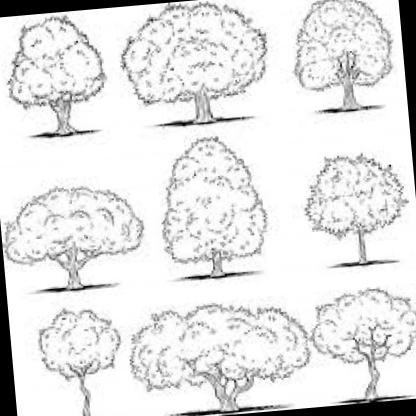crown_cloud: (118, 1, 271, 106), (1, 183, 146, 267), (3, 16, 108, 107), (301, 152, 409, 240), (308, 286, 416, 364), (38, 306, 122, 378)
crown_dizzy: (127, 298, 312, 394)
crown_mushroom: (152, 133, 270, 265), (286, 0, 395, 93)
root_none: (183, 111, 228, 134), (46, 122, 89, 146), (57, 276, 98, 298), (331, 97, 370, 119), (200, 267, 238, 286), (350, 254, 380, 272)
trunk_bark: (216, 396, 243, 410), (54, 112, 74, 130), (194, 100, 214, 118), (341, 86, 359, 104), (358, 238, 369, 258), (68, 270, 82, 285), (210, 260, 224, 274)
trunk_reflex: (360, 365, 381, 393), (79, 385, 94, 416)
